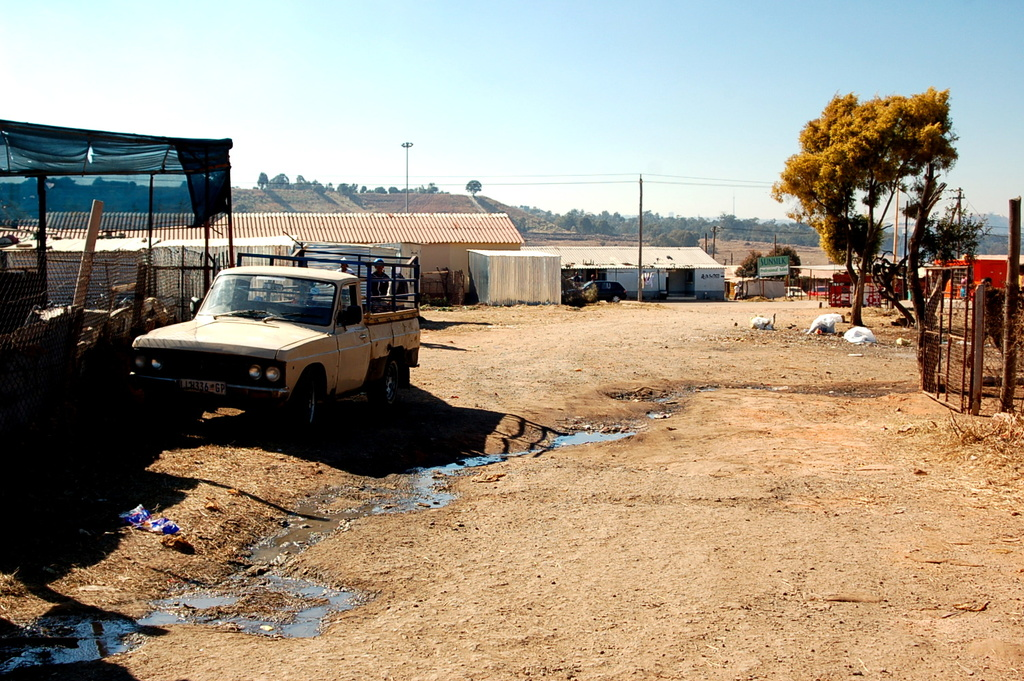Car: (563, 280, 625, 304), (805, 287, 830, 296), (787, 284, 804, 296)
